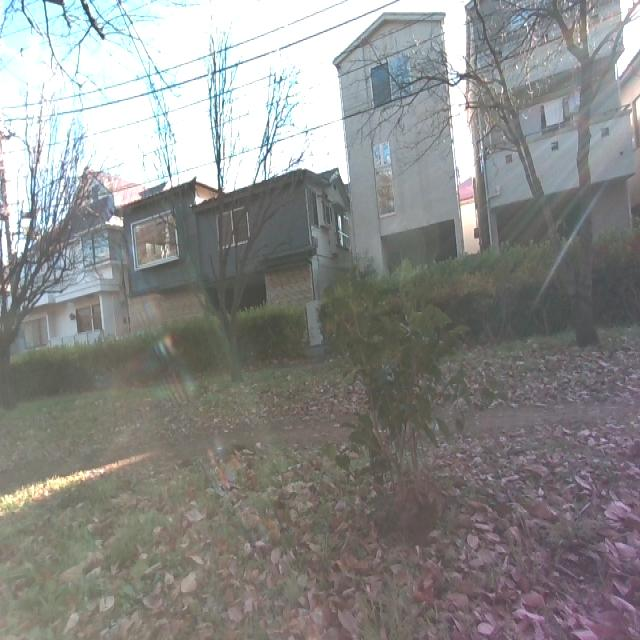artifact: (8, 167, 344, 353), (453, 0, 640, 263), (324, 9, 468, 304)
bush: (314, 242, 467, 524), (315, 231, 640, 352), (0, 296, 305, 400)
tree: (439, 0, 608, 368), (150, 50, 272, 390), (0, 87, 79, 407)
